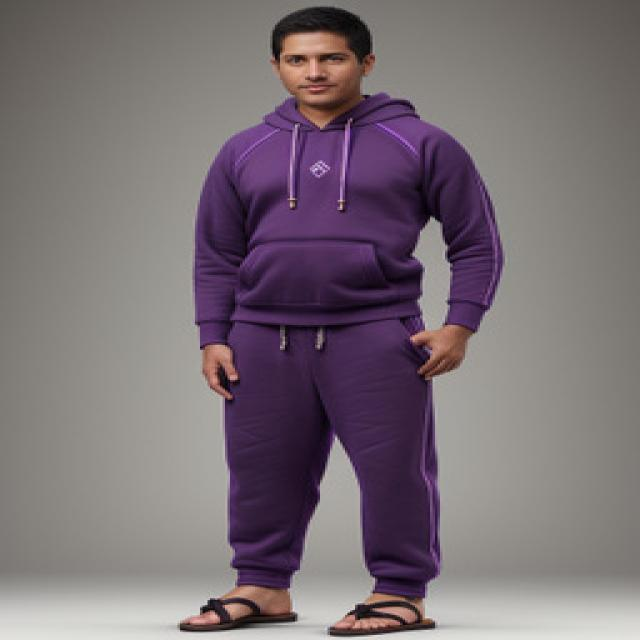Ai human 2: (178, 3, 505, 640)
